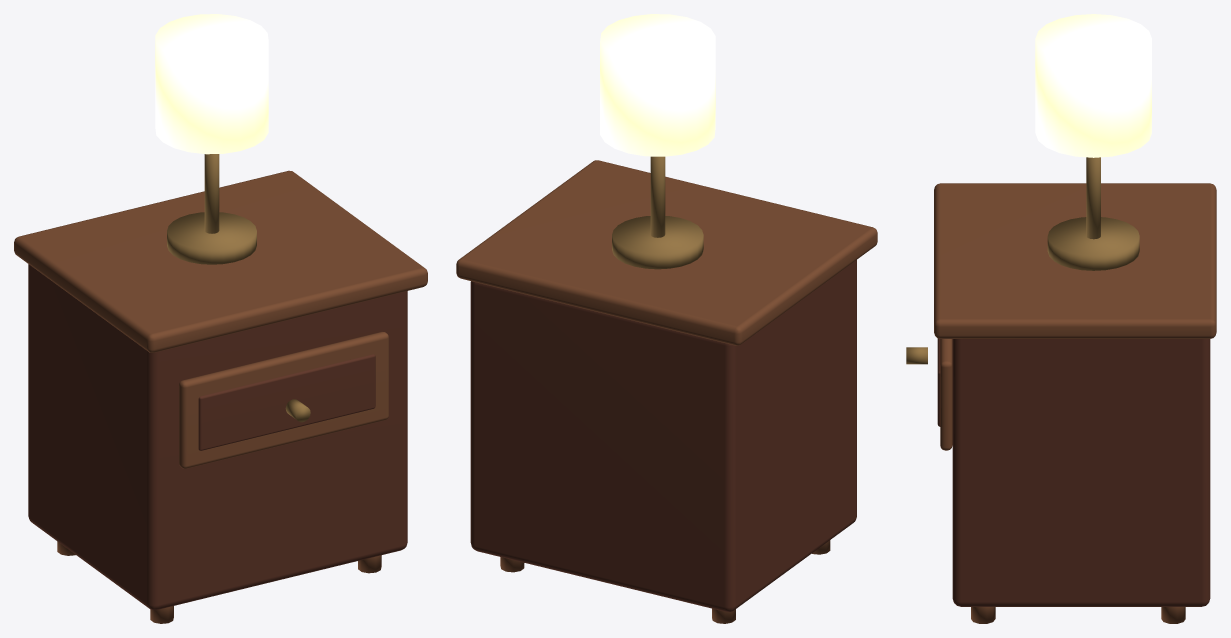
Rendered from nightstand.glb.
3 renders of one model, left to right at view 1: azimuth 30°, elevation 25°; view 2: azimuth 150°, elevation 25°; view 3: azimuth 270°, elevation 25°, orthographic. The views are drawn at different scales.
Parts seen in each view (by area): view 1: nightstand__Dark_mahogany, nightstand__Mahogany_edges, nightstand__Warm_lampshade, nightstand__Aged_brass; view 2: nightstand__Dark_mahogany, nightstand__Mahogany_edges, nightstand__Warm_lampshade, nightstand__Aged_brass; view 3: nightstand__Dark_mahogany, nightstand__Mahogany_edges, nightstand__Warm_lampshade, nightstand__Aged_brass.
Part boxes in pixels (x1,y1,x2,y2): nightstand__Dark_mahogany: [28, 264, 407, 609]; nightstand__Mahogany_edges: [14, 170, 427, 623]; nightstand__Warm_lampshade: [155, 14, 268, 154]; nightstand__Aged_brass: [167, 154, 310, 422]; nightstand__Dark_mahogany: [470, 260, 856, 611]; nightstand__Mahogany_edges: [456, 160, 877, 623]; nightstand__Warm_lampshade: [600, 14, 715, 156]; nightstand__Aged_brass: [612, 156, 703, 269]; nightstand__Dark_mahogany: [937, 338, 1210, 606]; nightstand__Mahogany_edges: [934, 183, 1216, 623]; nightstand__Warm_lampshade: [1035, 14, 1151, 157]; nightstand__Aged_brass: [906, 157, 1139, 364].
Size of the model in its own units: 0.54 by 0.95 by 0.505.
